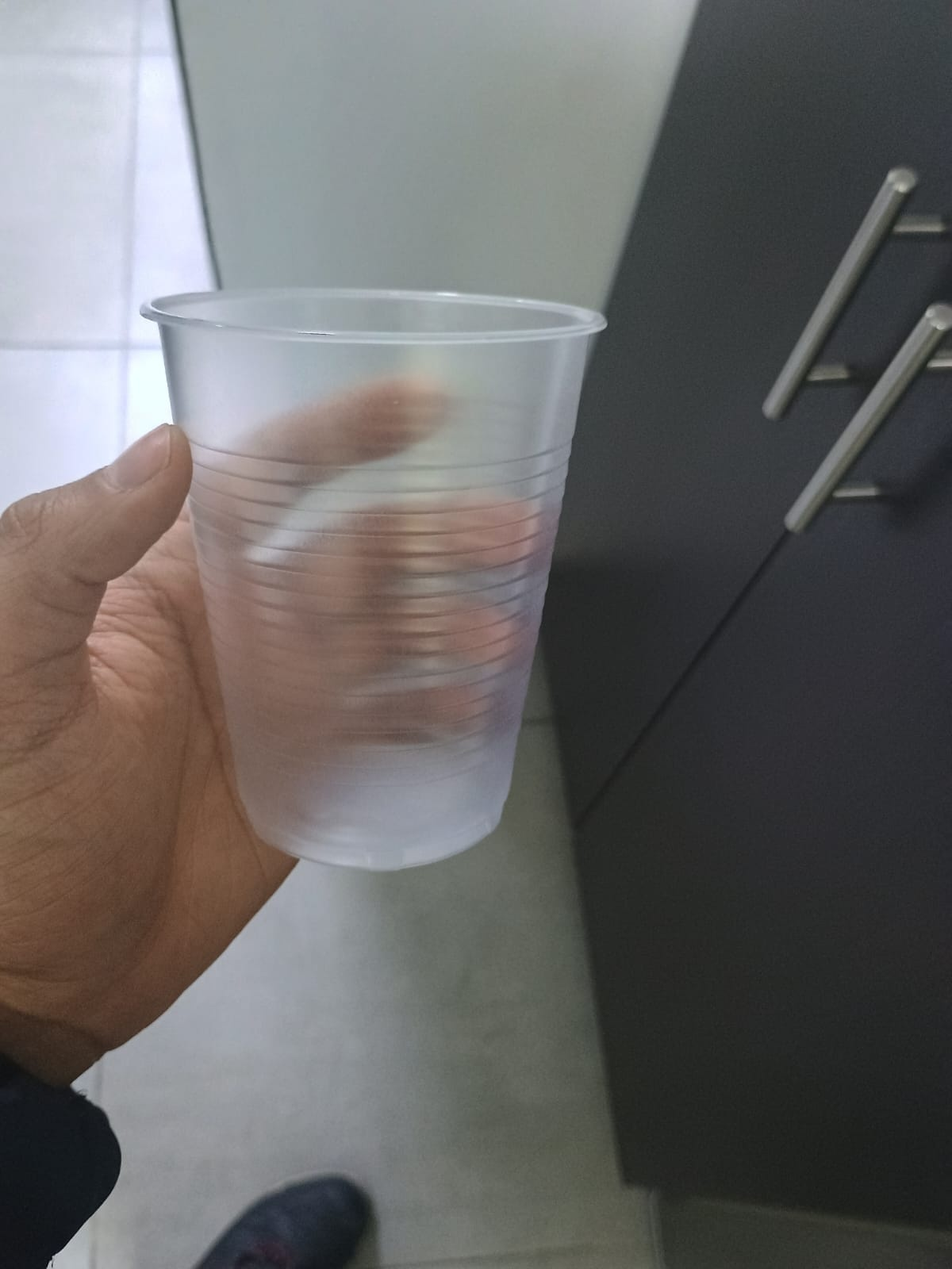Plastico: (143, 287, 609, 871)
